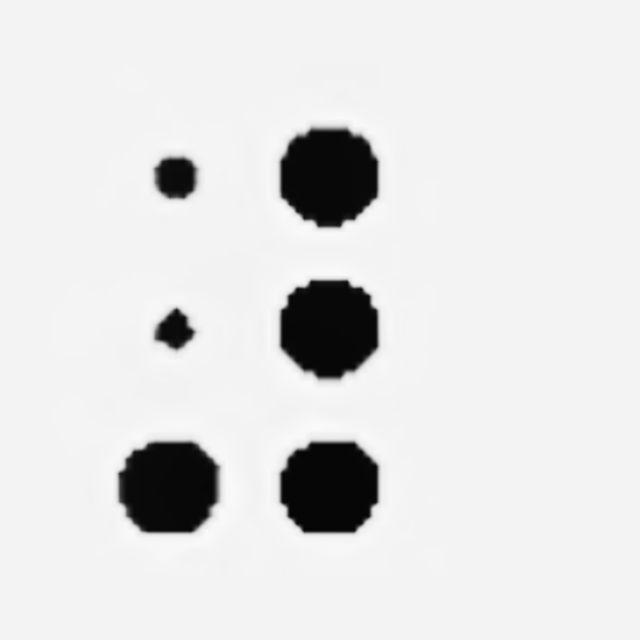at: (119, 128, 377, 535)
